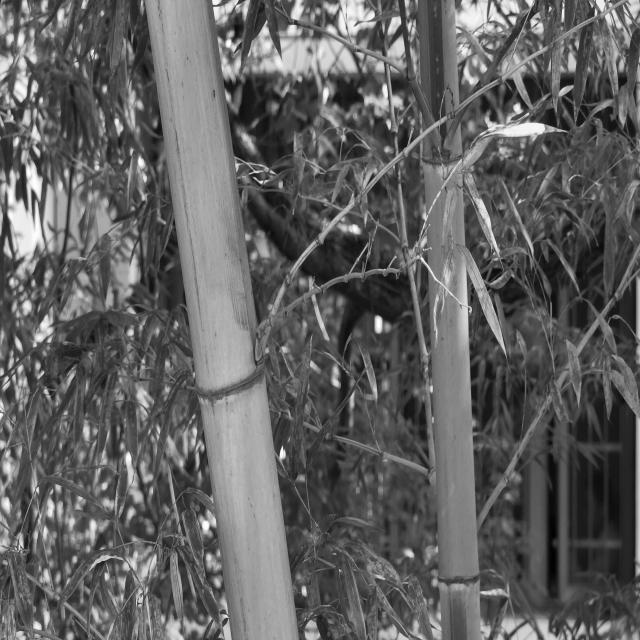Bamboo-shoots: (145, 0, 299, 640), (416, 0, 481, 640)
